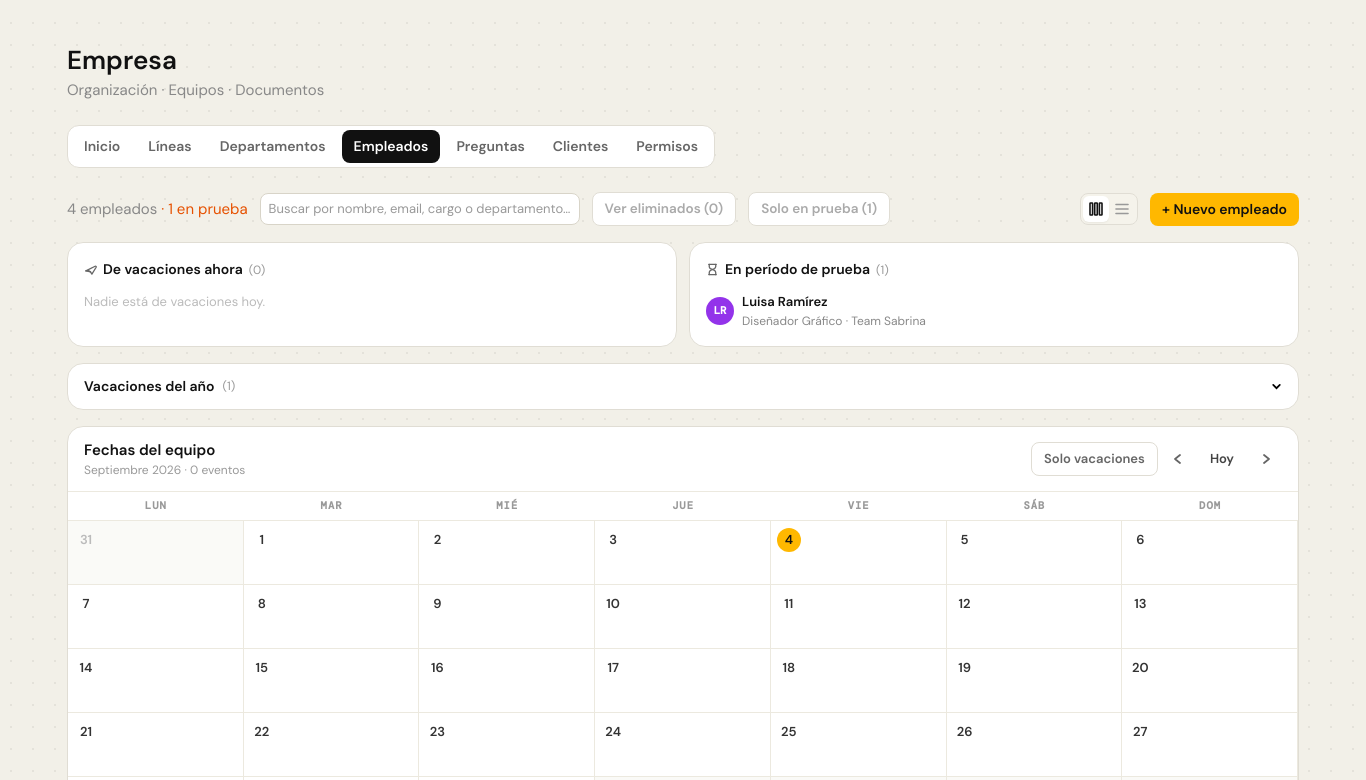
Scenario: EmployeesView › la búsqueda filtra por nombre
Type "Ana" into the field with placeholder "Buscar por nombre, email, cargo o departamento…" at (420, 209), box [260,193,580,225]
(page scrolled)
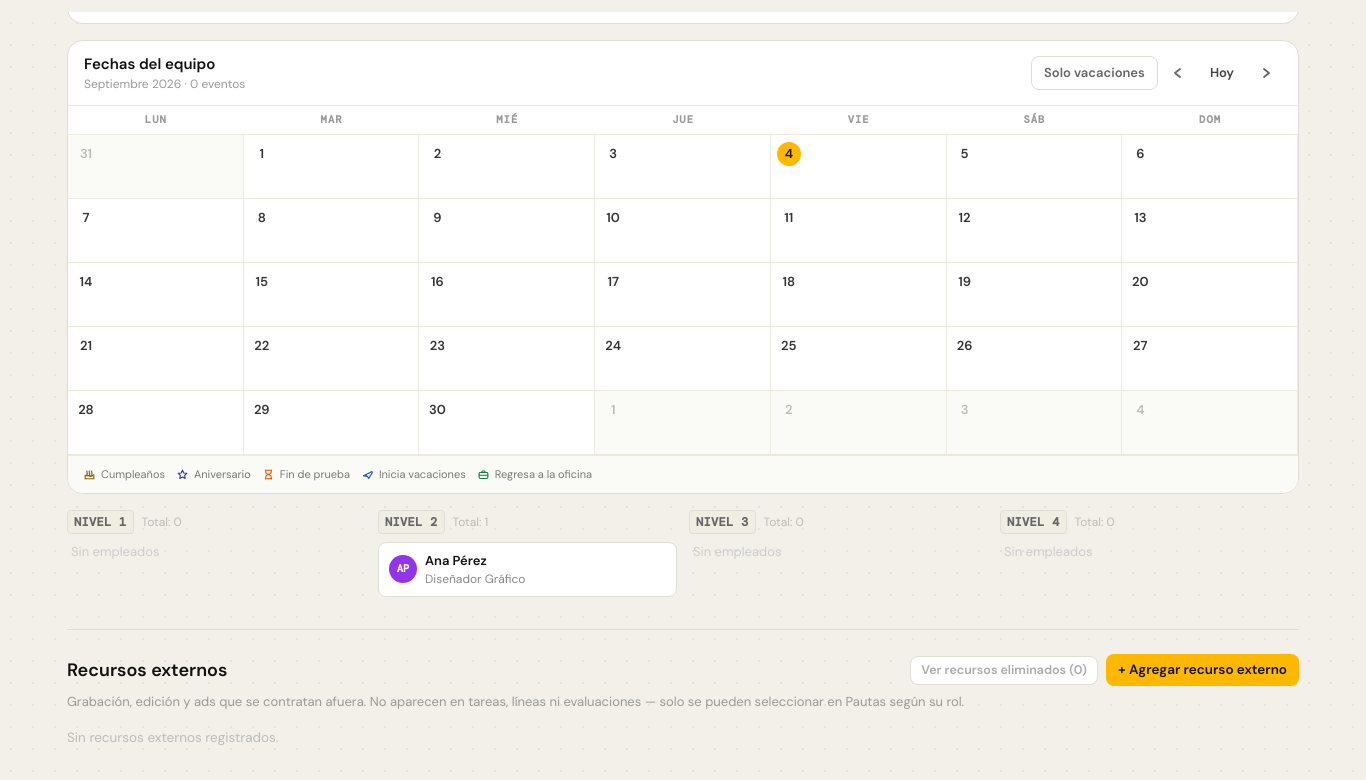
Now the text "Ana Pérez" is shown, box [425,550,487,570]
